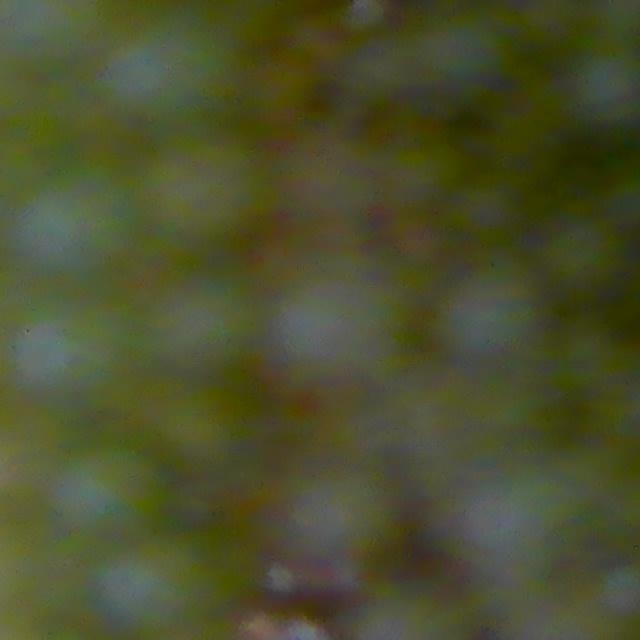SeaGrape: (1, 291, 132, 420), (101, 16, 236, 135), (21, 179, 147, 277), (435, 258, 545, 363), (49, 439, 157, 539), (99, 537, 208, 635), (161, 278, 274, 372), (569, 45, 640, 127)
